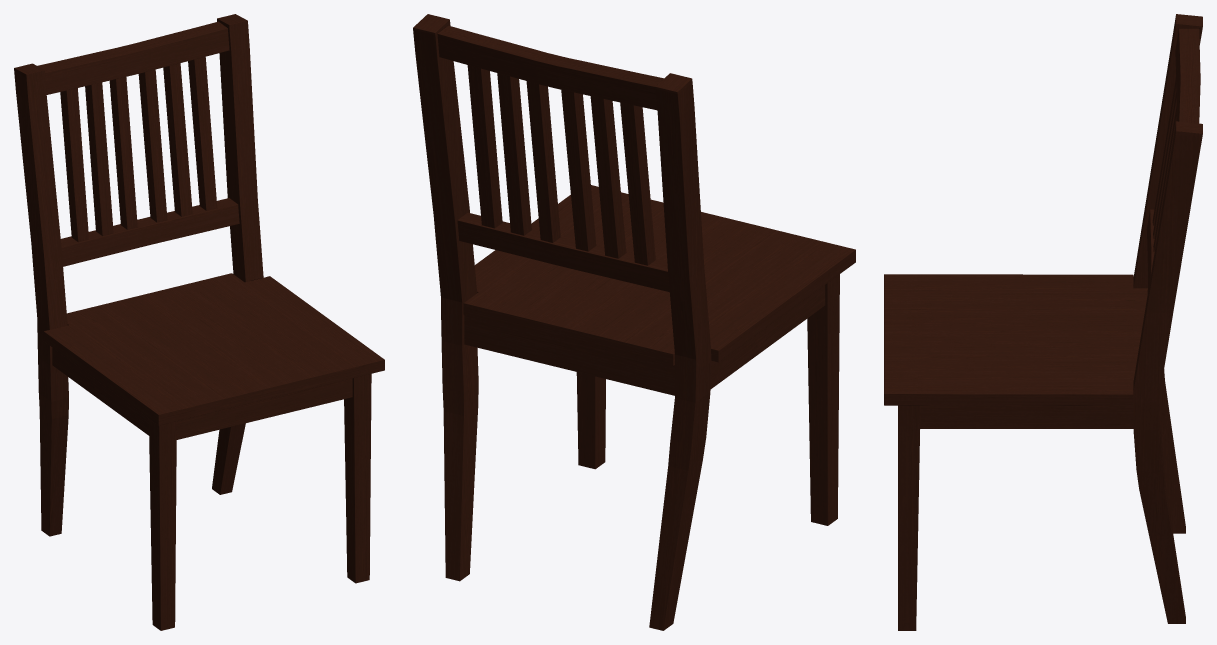
Rendered from chair.glb.
The picture shows the model from 3 angles, left to right: view 1: azimuth 30°, elevation 25°; view 2: azimuth 150°, elevation 25°; view 3: azimuth 270°, elevation 25°; orthographic projection. The views are drawn at different scales.
Visible parts, largest first — view 1: Simple Dining Chair; view 2: Simple Dining Chair; view 3: Simple Dining Chair.
Part boxes in pixels (<box>): Simple Dining Chair: <box>14,14,384,630</box>; Simple Dining Chair: <box>413,14,855,630</box>; Simple Dining Chair: <box>884,14,1202,630</box>.
Size of the model in its own units: 0.4812 by 0.9428 by 0.5412.
1 material, 1 textured.
